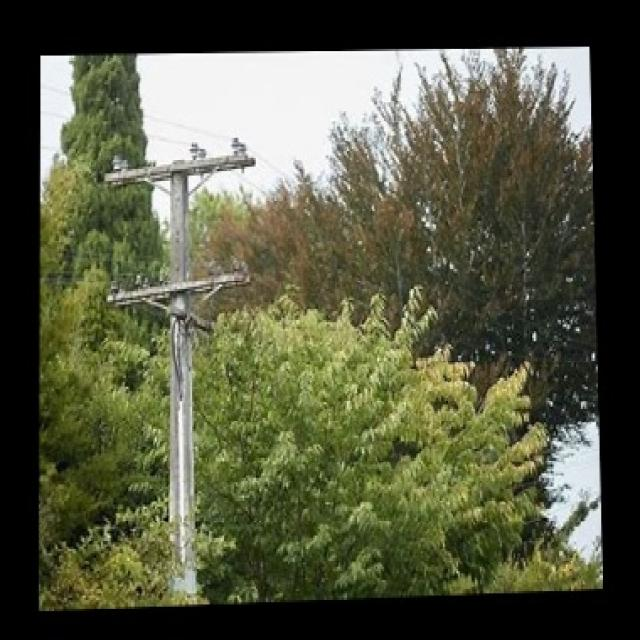utility poles: (73, 102, 277, 604)
